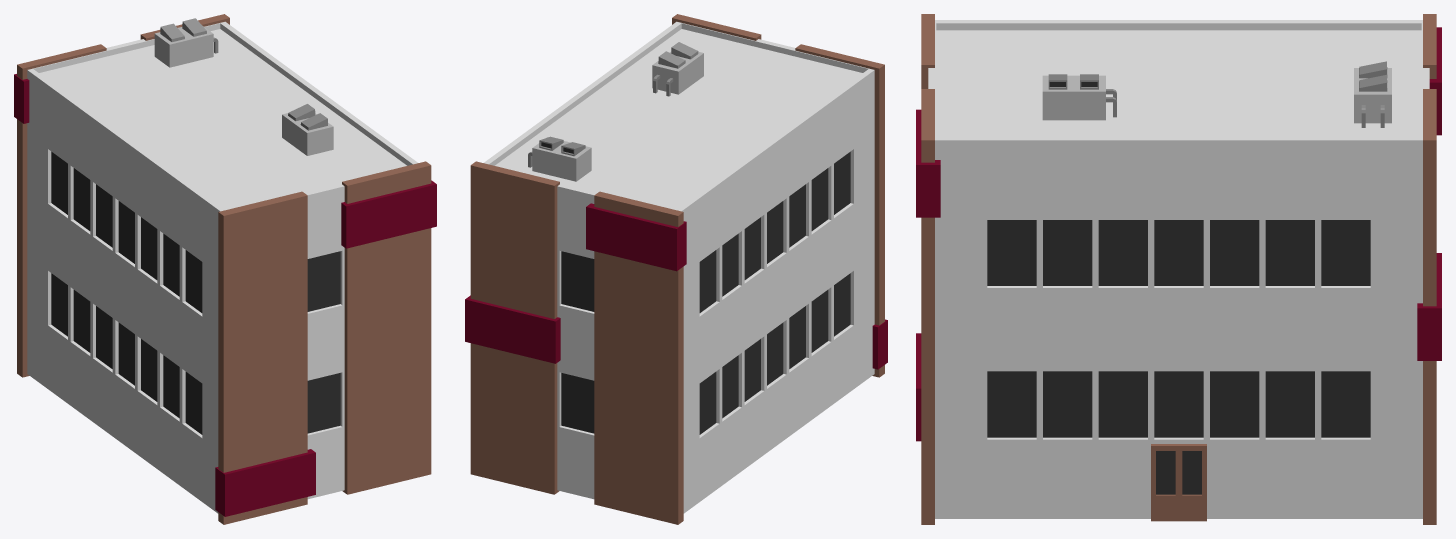
Rendered from flat_04.fbx.
The picture shows the model from 3 angles, left to right: view 1: azimuth 30°, elevation 25°; view 2: azimuth 150°, elevation 25°; view 3: azimuth 270°, elevation 25°; orthographic projection. The views are drawn at different scales.
Visible parts, largest first — view 1: flat_04; view 2: flat_04; view 3: flat_04.
Boxes of the visible parts, x1,y1,x2,y2 form: flat_04: [14, 14, 436, 524]; flat_04: [465, 14, 887, 524]; flat_04: [916, 14, 1441, 524].
Bounding box in the file's own units: 9.62 × 14.38 × 16.61.
